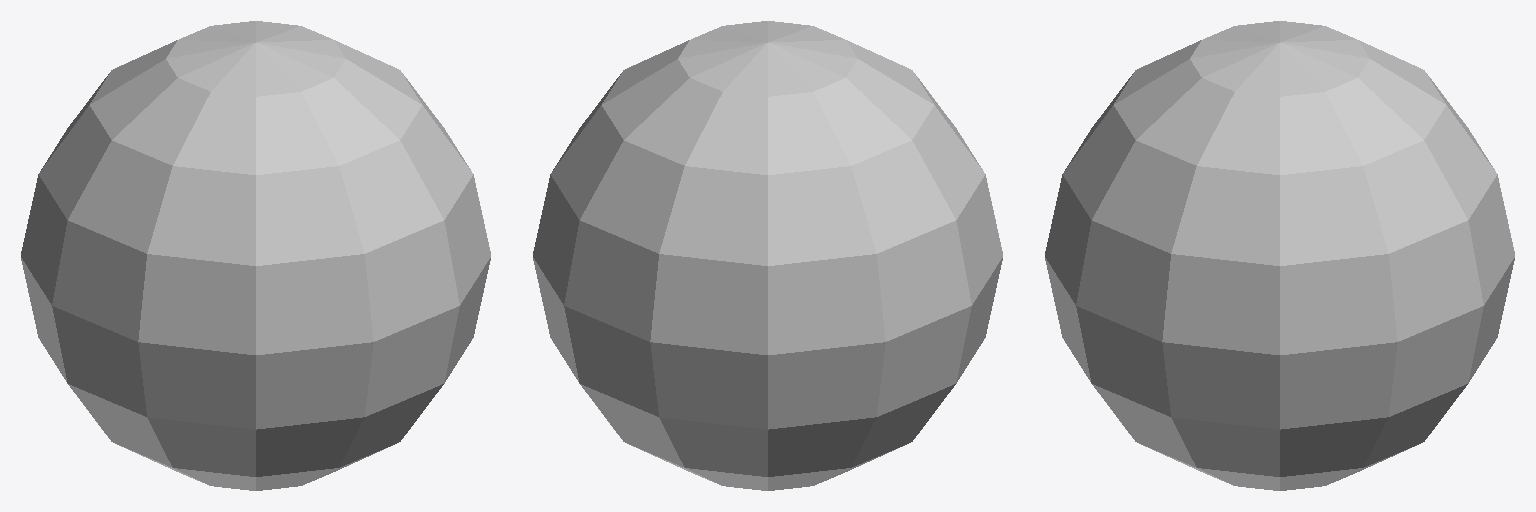
The model's file is dummyconnector.obj.
3 renders of one model, left to right at view 1: azimuth 30°, elevation 25°; view 2: azimuth 150°, elevation 25°; view 3: azimuth 270°, elevation 25°, orthographic.
Visible parts, largest first — view 1: dummy_hips3_dummy_belly_dummy_torso_dummy_neck.001; view 2: dummy_hips3_dummy_belly_dummy_torso_dummy_neck.001; view 3: dummy_hips3_dummy_belly_dummy_torso_dummy_neck.001.
Part boxes in pixels (bbox=[...]): dummy_hips3_dummy_belly_dummy_torso_dummy_neck.001: bbox=[21, 21, 490, 490]; dummy_hips3_dummy_belly_dummy_torso_dummy_neck.001: bbox=[533, 21, 1002, 490]; dummy_hips3_dummy_belly_dummy_torso_dummy_neck.001: bbox=[1045, 21, 1514, 490].
Bounding box in the file's own units: 9.55 × 9.55 × 9.55.